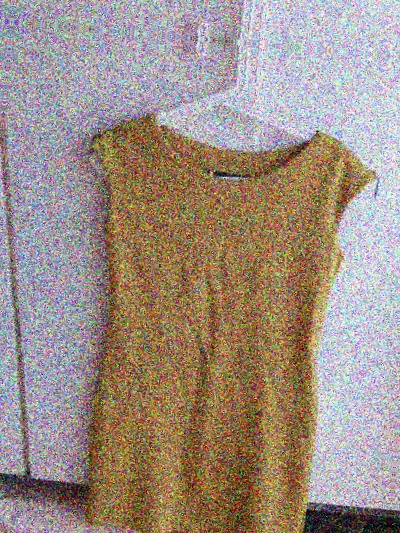Dress: (24, 87, 400, 533)
